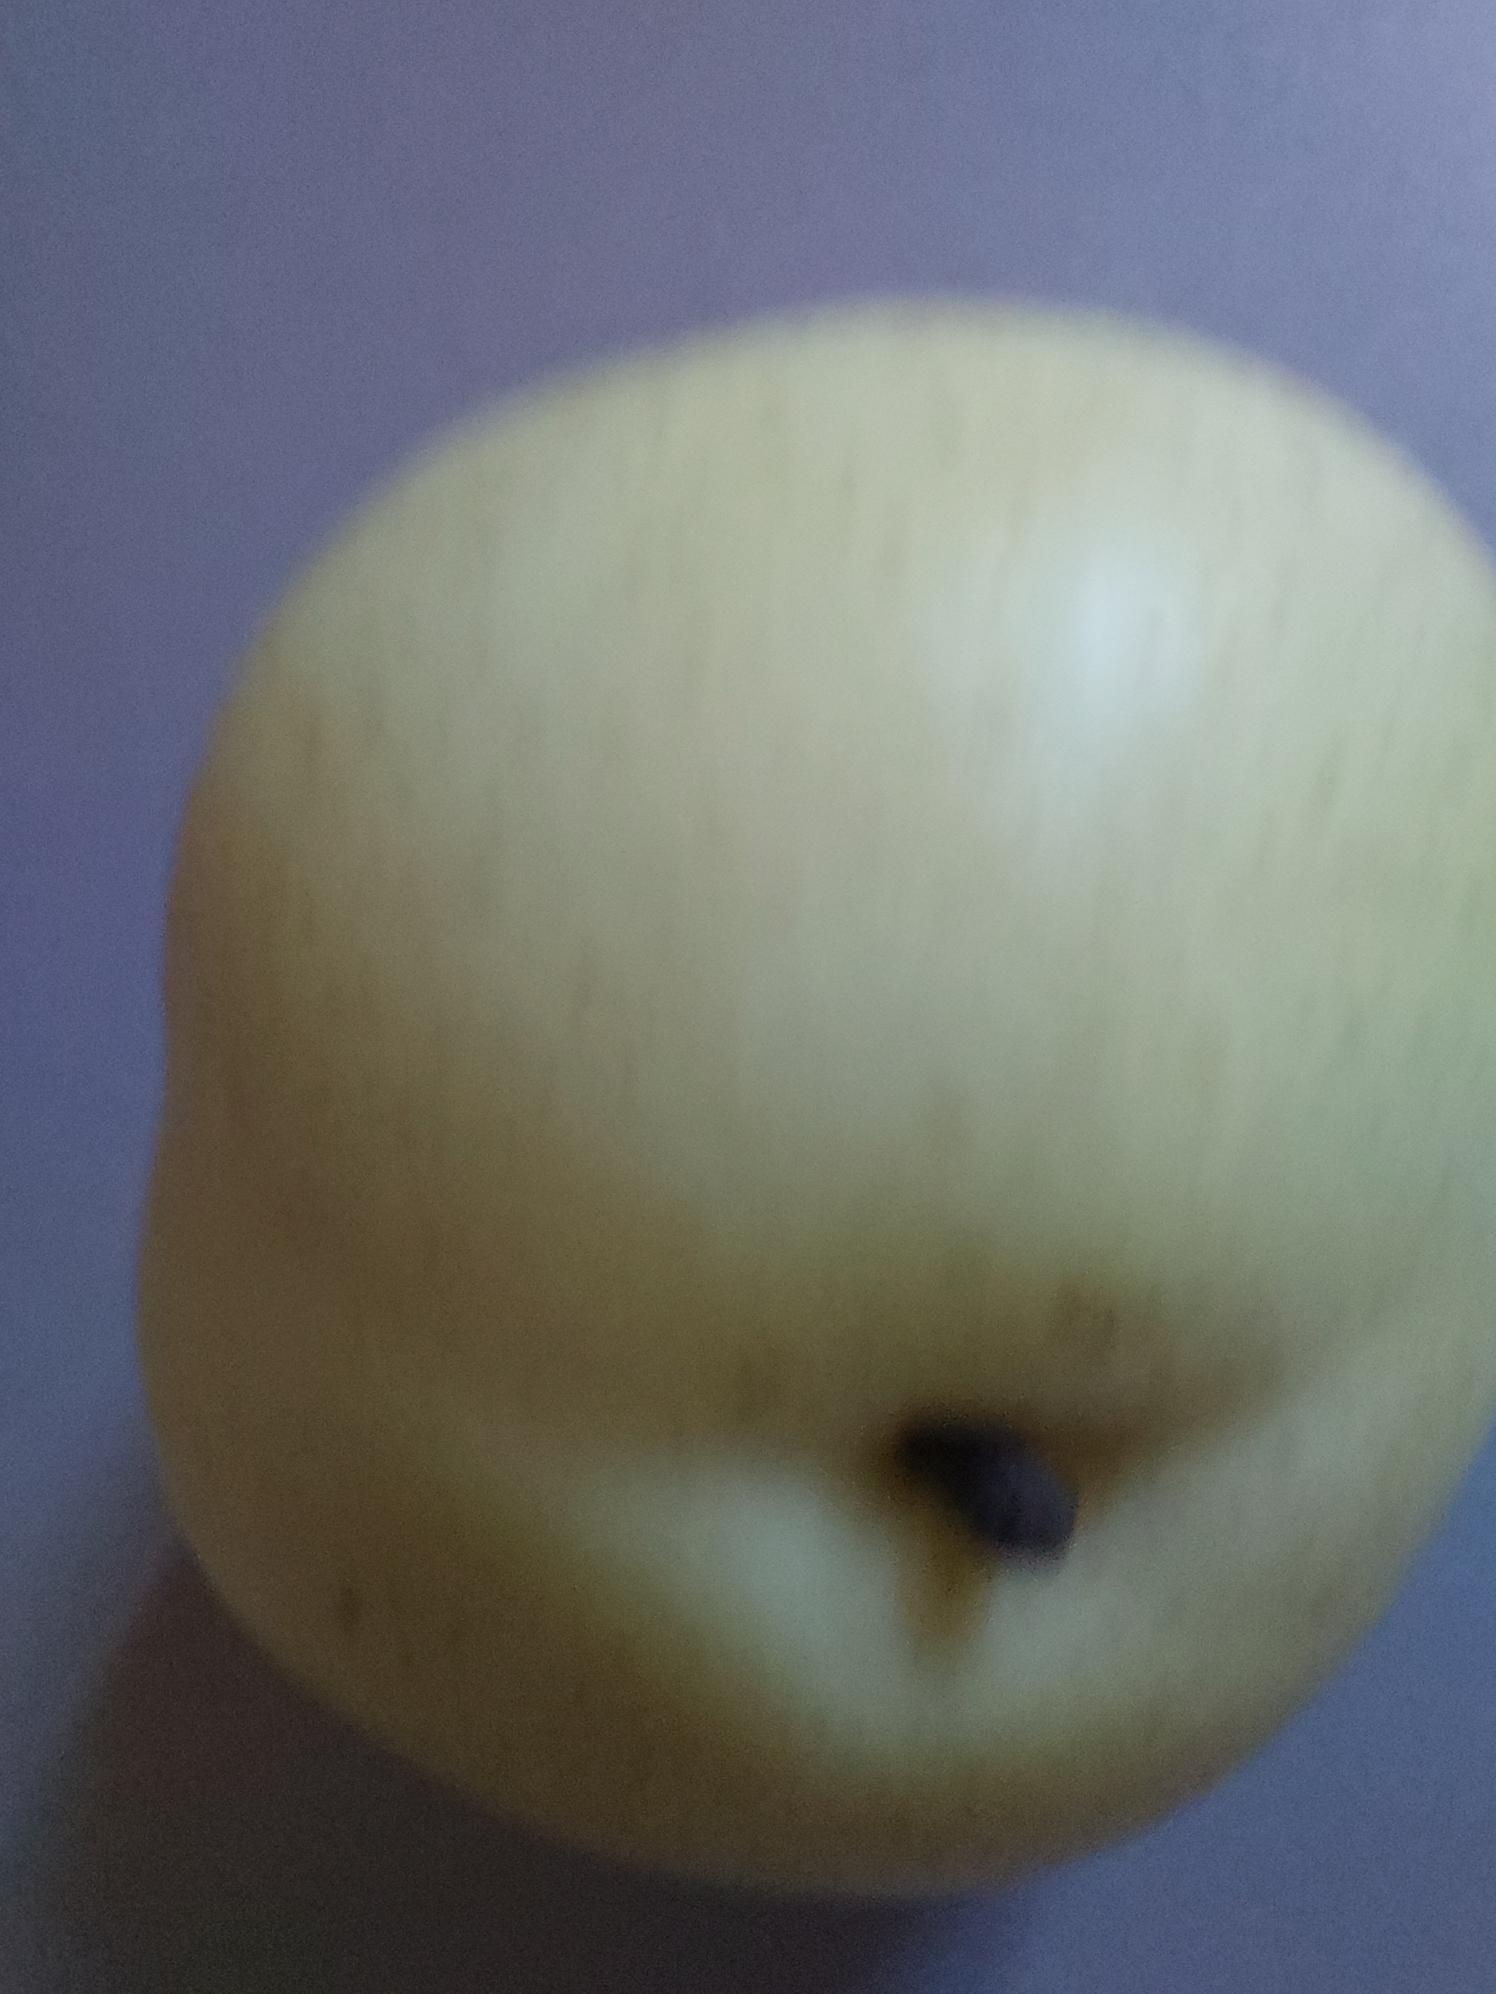Good Pear: (129, 306, 1496, 1922)
